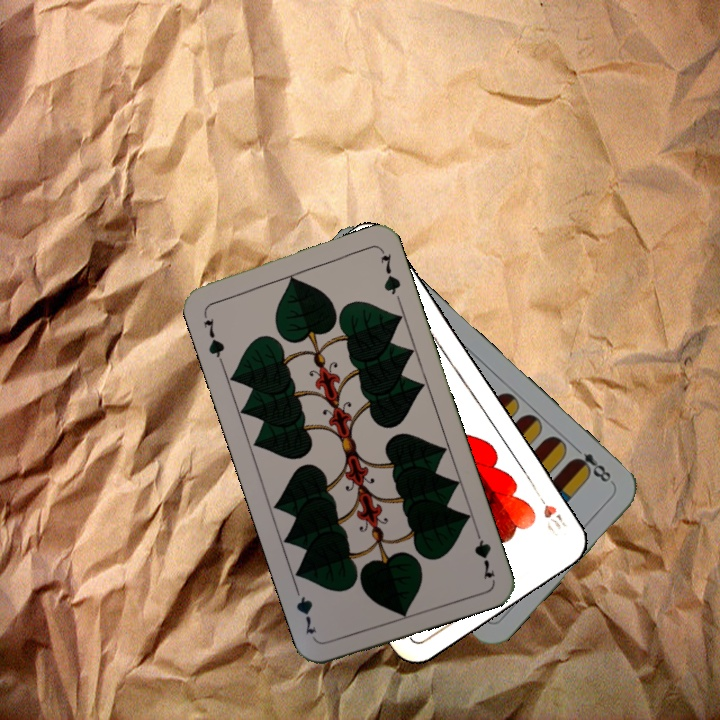E8: (568, 442, 616, 487)
G7: (470, 523, 497, 582), (199, 314, 227, 365)
H10: (530, 486, 570, 539)
